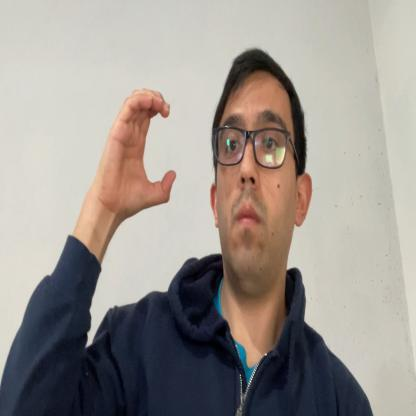C: (106, 88, 177, 218)
